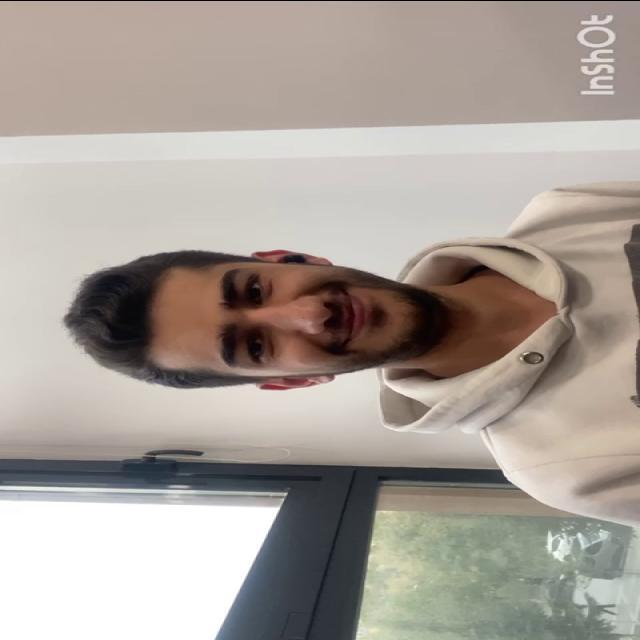Happy: (128, 255, 429, 384)
